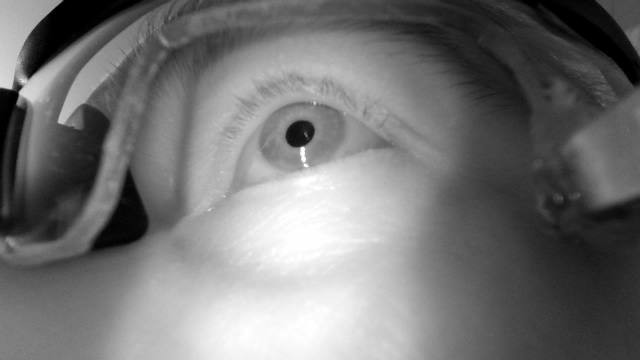pupil: (285, 119, 316, 148)
